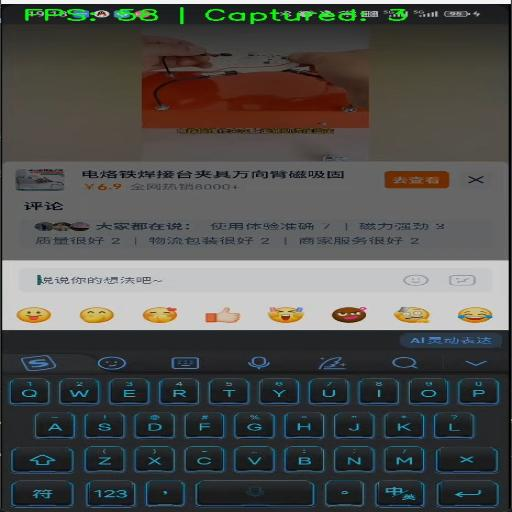back: (441, 349, 507, 372)
butten: (60, 296, 124, 326), (182, 445, 227, 474), (10, 378, 47, 404), (186, 447, 224, 472), (186, 446, 223, 471)
input: (22, 262, 408, 291)
